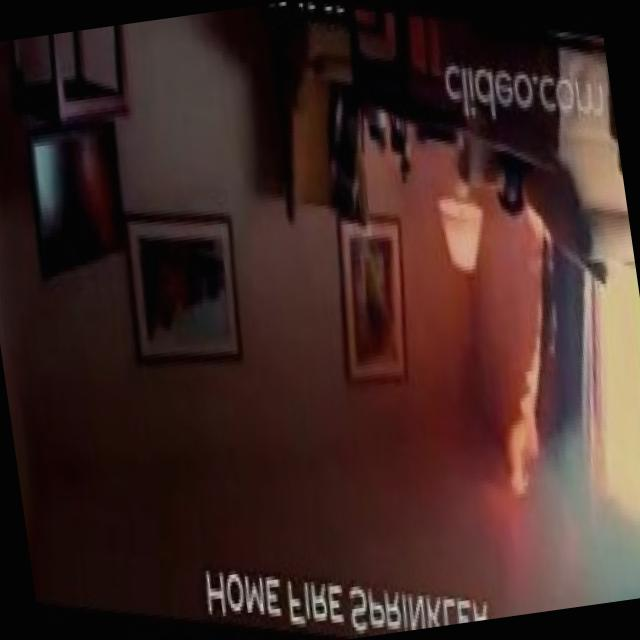fire: (441, 193, 616, 568)
